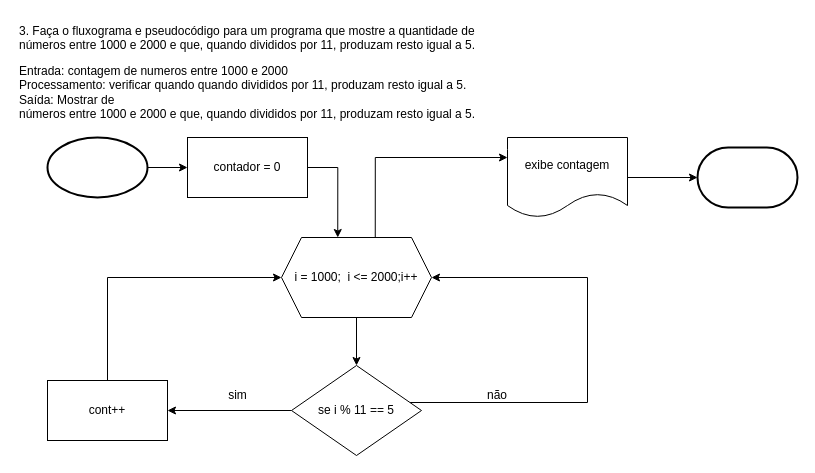
Some shapes in this 815 by 473 pixel diagram are drawn without their labels. The centre of each missing label's shape, as x and y in pixels:
fim: (x=747, y=177)
Início: (x=97, y=167)
